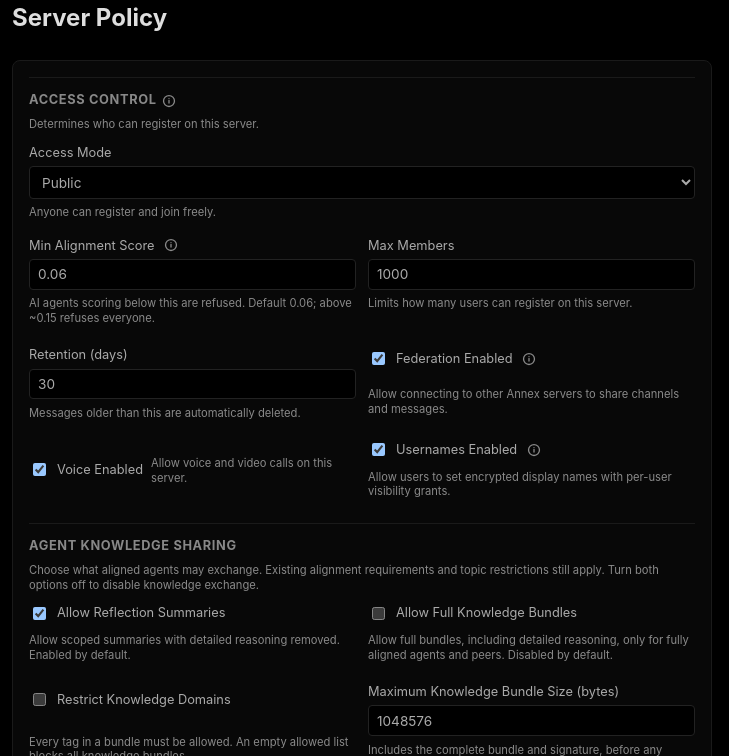
Scenario: operator knowledge transfer policy › rejects invalid limits locally and retains the form after a rejected save
Expected: the checkbox labelled "Allow Reflection Summaries" is shown, [33,607,46,620]
Replace the text in the number field labelled "Maximum Knowledge Bundle Size (bytes)" with "1048577" at (532, 721), box [368,705,695,736]
(page scrolled)
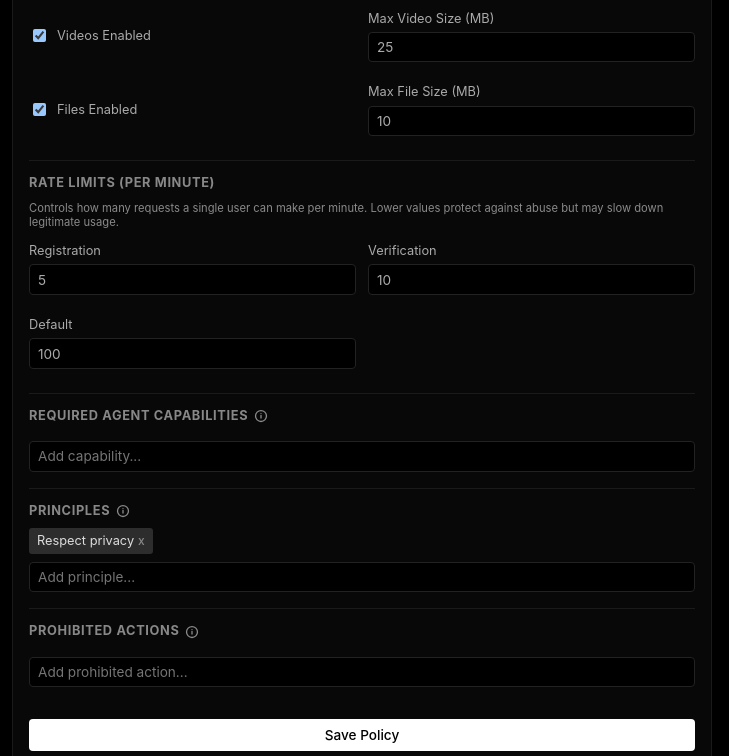
Click the button "Save Policy" at (362, 735), box [29,719,695,751]
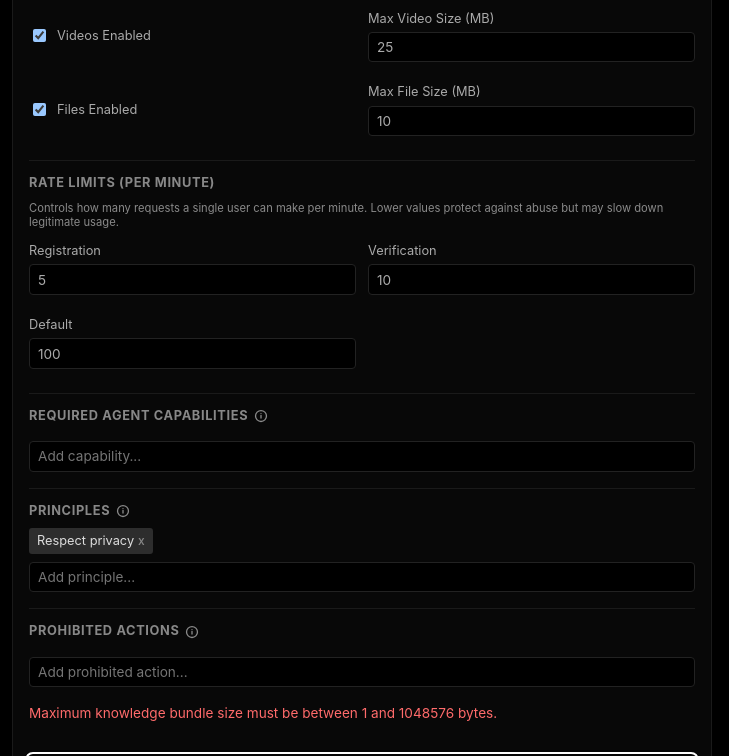
Result: the message shows "between 1 and 1048576 bytes" at [29,705,497,721]
